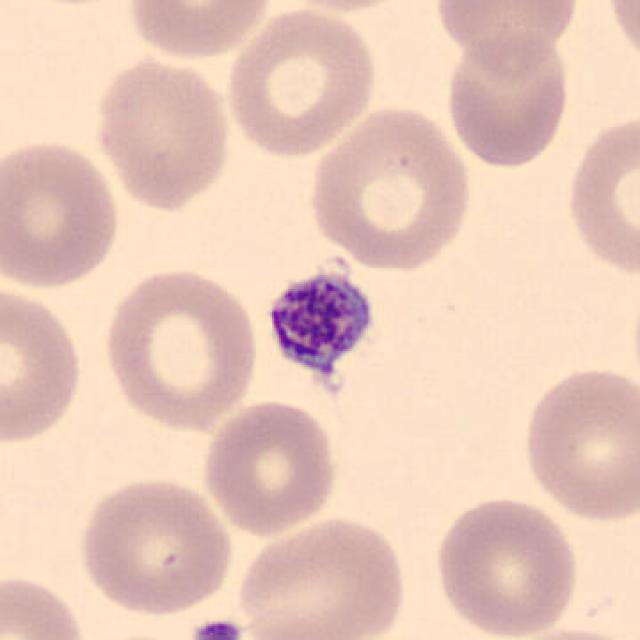Platelets: (256, 256, 386, 407), (188, 617, 246, 640)
RBC: (304, 100, 476, 274), (98, 262, 263, 433), (220, 6, 382, 160), (89, 51, 235, 213), (73, 473, 236, 617), (235, 513, 412, 640), (431, 492, 582, 638), (199, 397, 343, 538), (518, 360, 638, 525), (0, 134, 124, 292), (439, 30, 574, 171), (0, 278, 87, 450), (560, 106, 638, 284), (430, 0, 583, 72), (121, 0, 277, 62), (0, 569, 92, 639), (601, 0, 640, 72), (482, 624, 636, 640), (261, 0, 423, 14)
